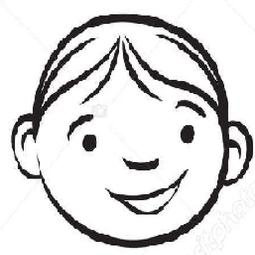ear: (3, 113, 48, 182), (217, 121, 255, 191)
eyebrow: (64, 112, 96, 142), (175, 95, 210, 118)
nose: (116, 154, 163, 172)
open_mouth: (107, 168, 191, 219)
small_eye: (171, 120, 201, 149), (81, 133, 100, 159)
